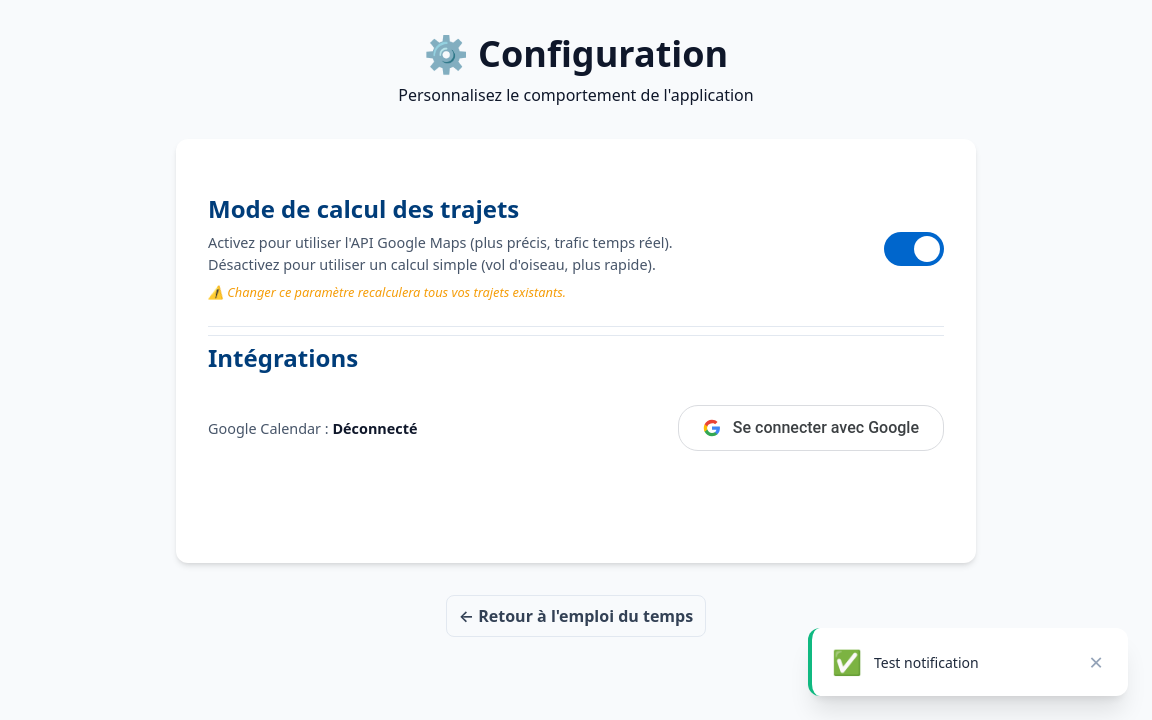
Test case: SetupPage › Notifications de succès › ✅ Devrait fermer la notification au clic
The image size is (1152, 720).
Expected: the text "Test notification" is shown, [874, 652, 979, 672]
Click the button "×": (1096, 662) [1084, 650, 1108, 674]
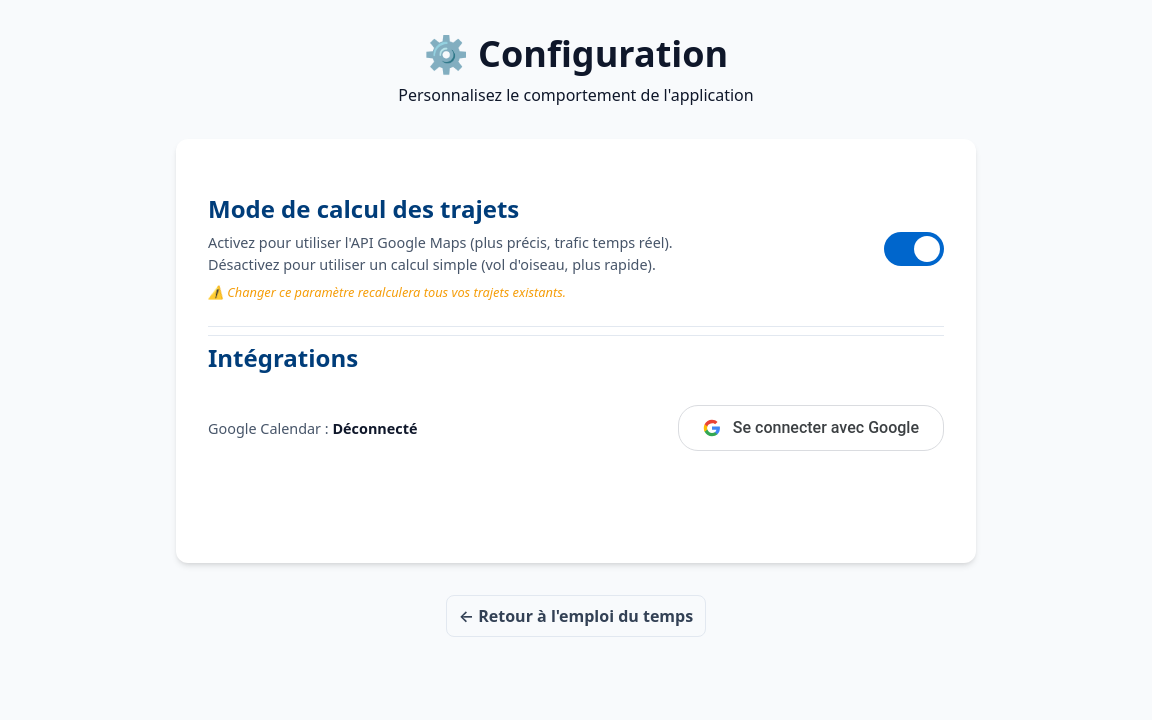
Now the text "Test notification" is gone
